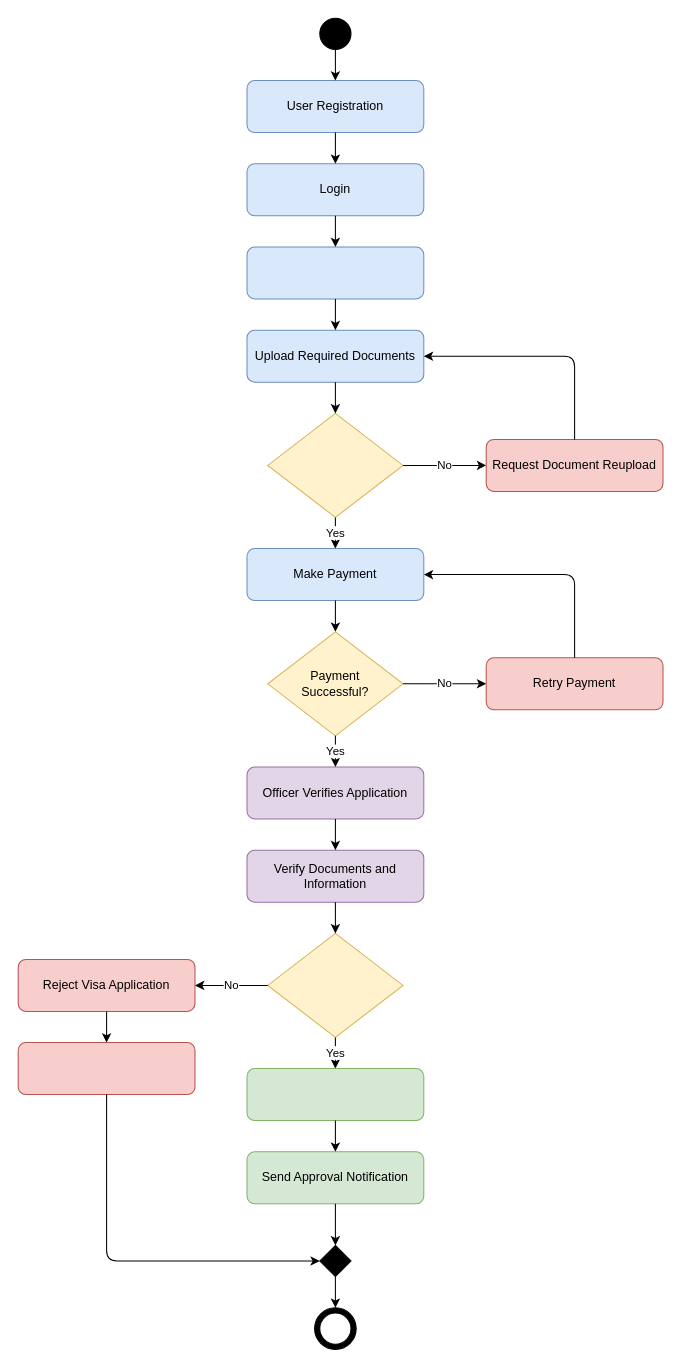
This 681x1368 diagram has some shape labels left out. Each missing label, with the box of its shape:
Approve Visa Application: (246, 1068, 424, 1121)
Approve Visa?: (267, 932, 403, 1037)
Documents Valid?: (267, 412, 403, 517)
Fill Visa Application Form: (246, 246, 424, 299)
Send Rejection Notification: (17, 1042, 195, 1095)
